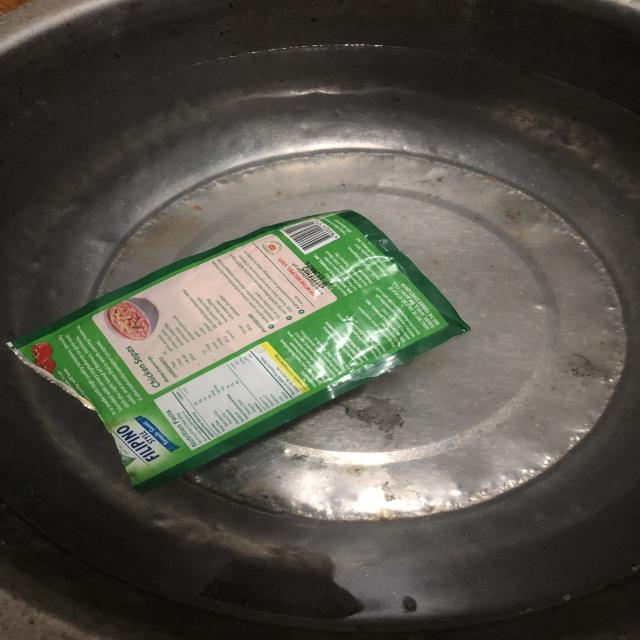Plastic Pouch: (13, 207, 458, 477)
